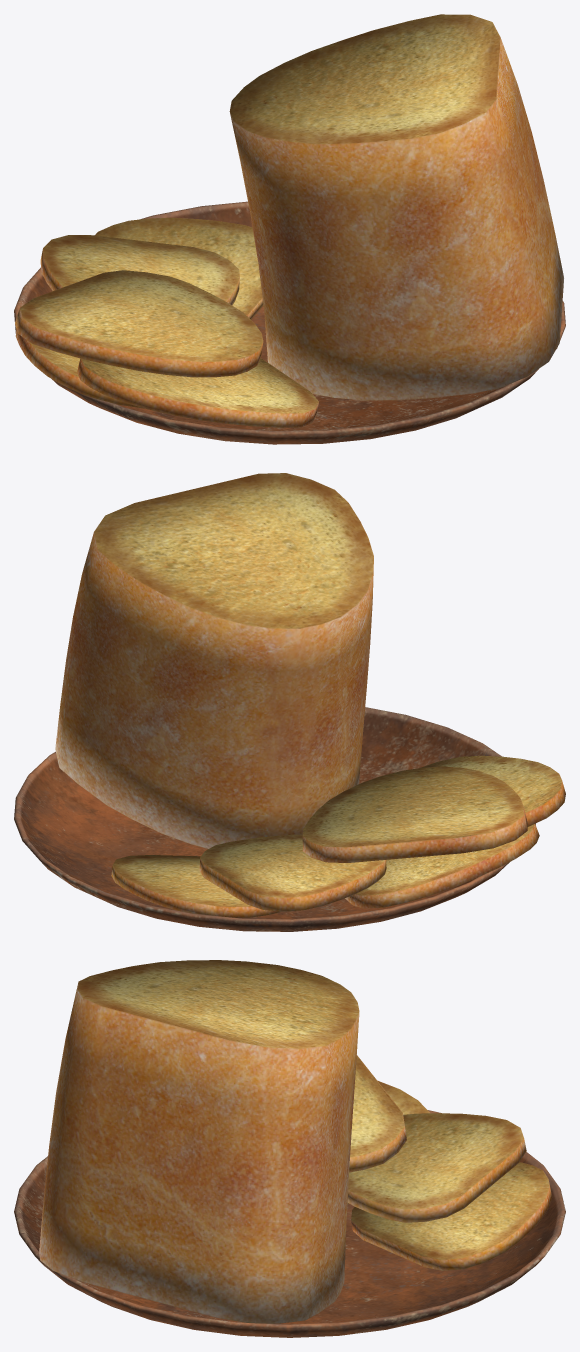
File: bread_slices_fbx.glb
3 views of the same model, one above another, from view 1: azimuth 30°, elevation 25°; view 2: azimuth 150°, elevation 25°; view 3: azimuth 270°, elevation 25° (orthographic). The views are drawn at different scales.
Visible parts, largest first — view 1: Bread_Slices__0; view 2: Bread_Slices__0; view 3: Bread_Slices__0.
Part boxes in pixels (<box>): Bread_Slices__0: <box>14,14,565,444</box>; Bread_Slices__0: <box>14,473,565,931</box>; Bread_Slices__0: <box>14,960,565,1337</box>.
Size of the model in its own units: 0.4325 by 0.2532 by 0.4087.
Materials: 1 (1 with a texture image).
